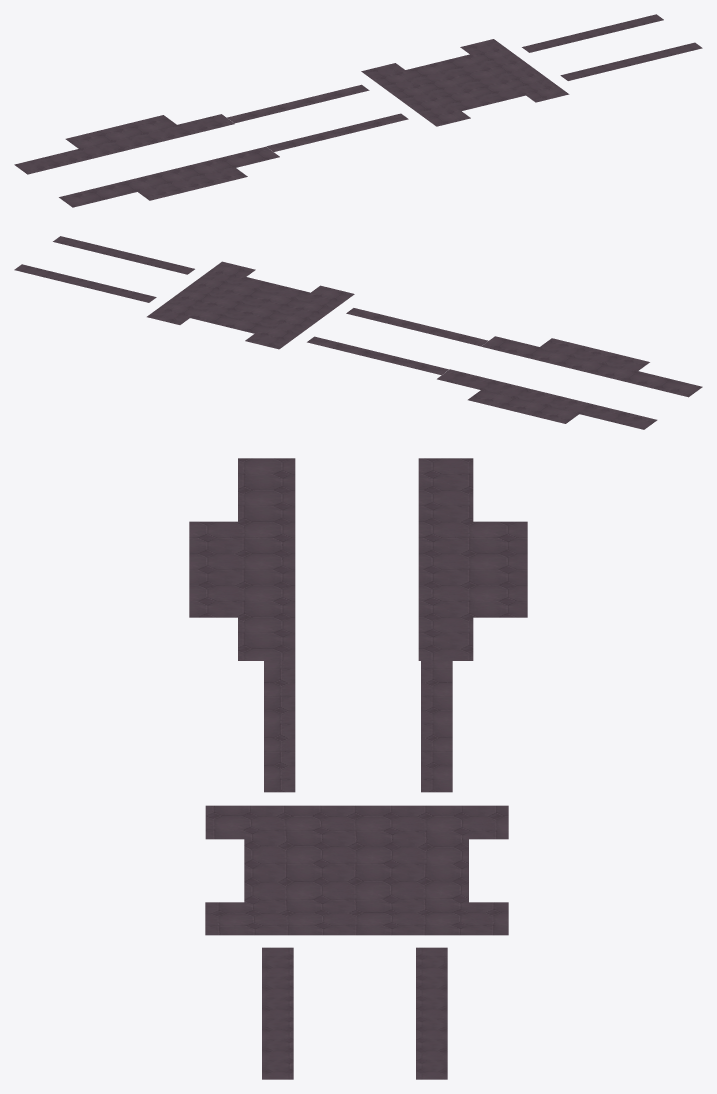
File: SD_xs_dimian01.FBX
3 views of the same model, one above another, from view 1: azimuth 30°, elevation 25°; view 2: azimuth 150°, elevation 25°; view 3: azimuth 270°, elevation 25° (orthographic). The views are drawn at different scales.
Visible parts, largest first — view 1: SD_xs_dimian01; view 2: SD_xs_dimian01; view 3: SD_xs_dimian01.
Part boxes in pixels (x1=…): SD_xs_dimian01: x1=14, y1=14, x2=702, y2=207; SD_xs_dimian01: x1=14, y1=236, x2=702, y2=429; SD_xs_dimian01: x1=189, y1=458, x2=527, y2=1079.
Size of the model in its own units: 2398 by 1.06 by 552.
Materials: 1 (1 with a texture image).
